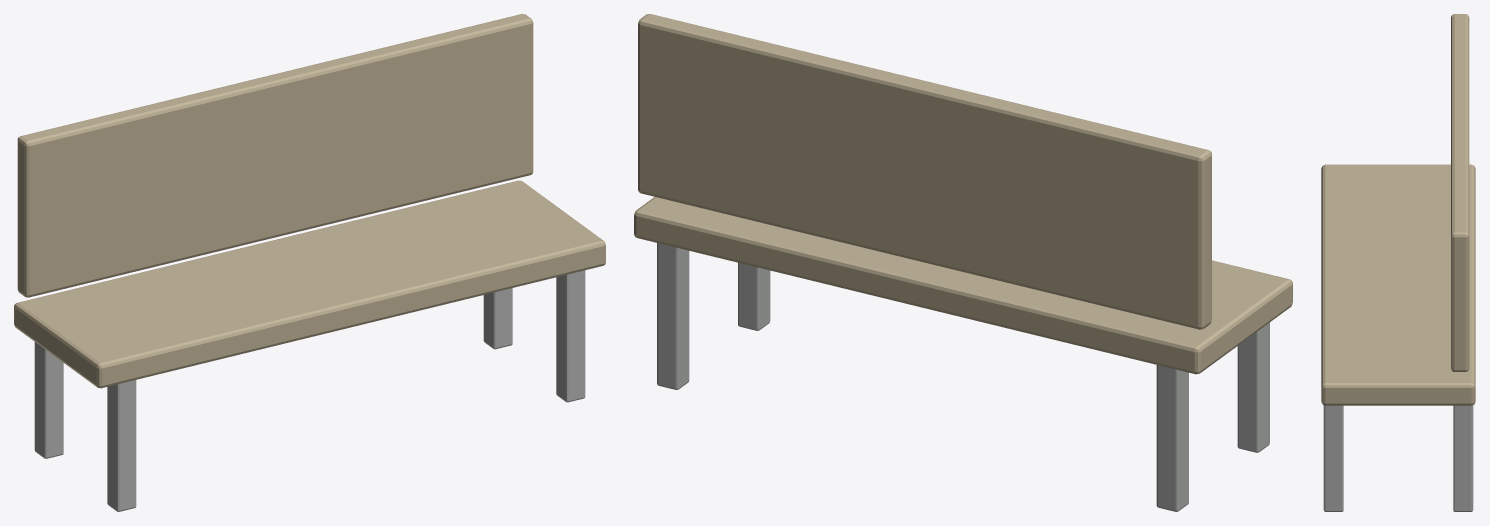
File: F1_Bench.fbx
3 views of the same model, side by side, from view 1: azimuth 30°, elevation 25°; view 2: azimuth 150°, elevation 25°; view 3: azimuth 270°, elevation 25° (orthographic). The views are drawn at different scales.
Parts seen in each view (by area): view 1: F1_Bench_LOD0; view 2: F1_Bench_LOD0; view 3: F1_Bench_LOD0.
Part boxes in pixels (<box>): F1_Bench_LOD0: <box>14,14,605,511</box>; F1_Bench_LOD0: <box>634,14,1292,511</box>; F1_Bench_LOD0: <box>1321,14,1475,511</box>.
Size of what is drawn, in the model's own units: 170 by 103 by 50.
